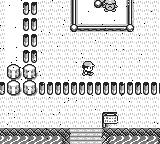captura: (1, 136, 61, 143), (111, 136, 157, 143)
leer: (102, 112, 118, 127)
main: (82, 62, 95, 75)
mo: (1, 128, 69, 143), (102, 128, 160, 143)
no-caminable: (39, 82, 160, 95), (7, 64, 38, 95), (23, 1, 37, 63), (1, 82, 5, 95)
npc: (103, 0, 119, 13)
